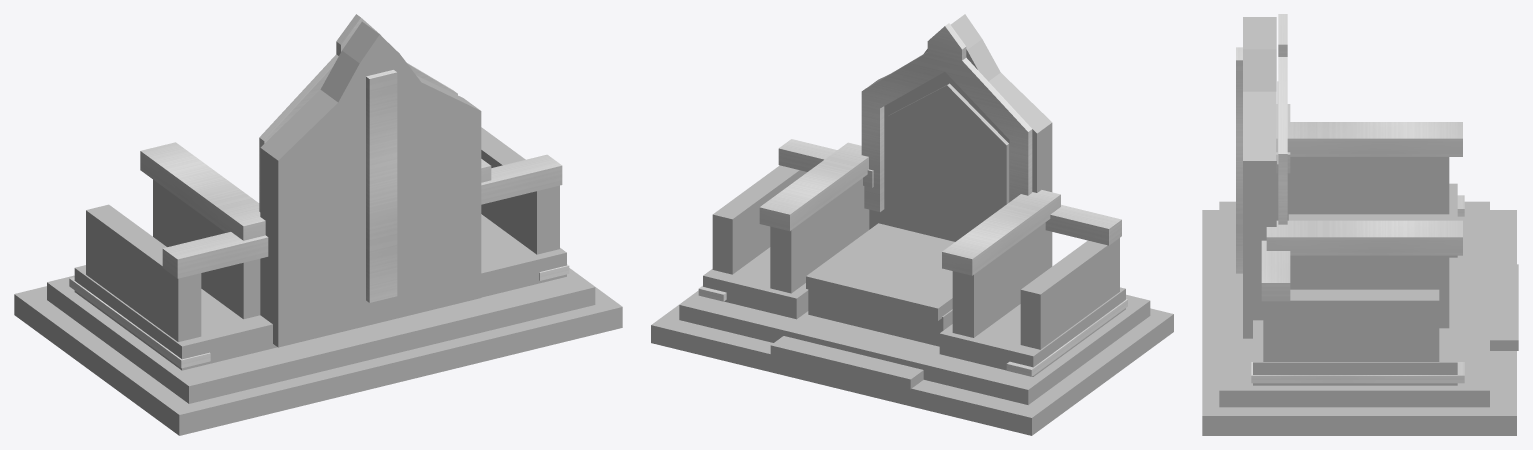
File: grand_throne.obj
3 views of the same model, side by side, from view 1: azimuth 30°, elevation 25°; view 2: azimuth 150°, elevation 25°; view 3: azimuth 270°, elevation 25° (orthographic). The views are drawn at different scales.
Visible parts, largest first — view 1: grand_throne; view 2: grand_throne; view 3: grand_throne.
Boxes of the visible parts, x1,y1,x2,y2 form: grand_throne: (14,14,622,435); grand_throne: (651,14,1173,435); grand_throne: (1202,14,1518,435).
Bounding box in the file's own units: 2.88 × 2.08 × 1.87.
